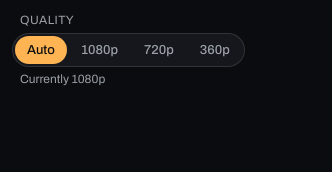
it: QualitySelector checked segment = the user's PIN (d3-aq2) › drops the pending note once hls.js has switched to the pinned level
This screenshot has width=332, height=172.
Click the radio button labelled "720p" at [159, 50], box [132, 36, 186, 64]
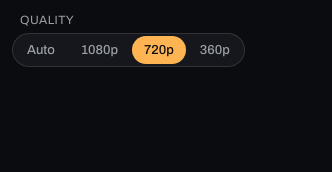
Expected: the text "Currently" is gone
